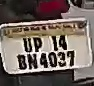0: (47, 51, 58, 68)
1: (50, 34, 59, 53)
3: (58, 49, 67, 70)
4: (38, 52, 49, 71), (57, 34, 67, 50)
7: (66, 48, 77, 69)
B: (16, 53, 27, 71)
N: (27, 52, 38, 71)
P: (32, 36, 43, 52)
U: (20, 36, 33, 52)
